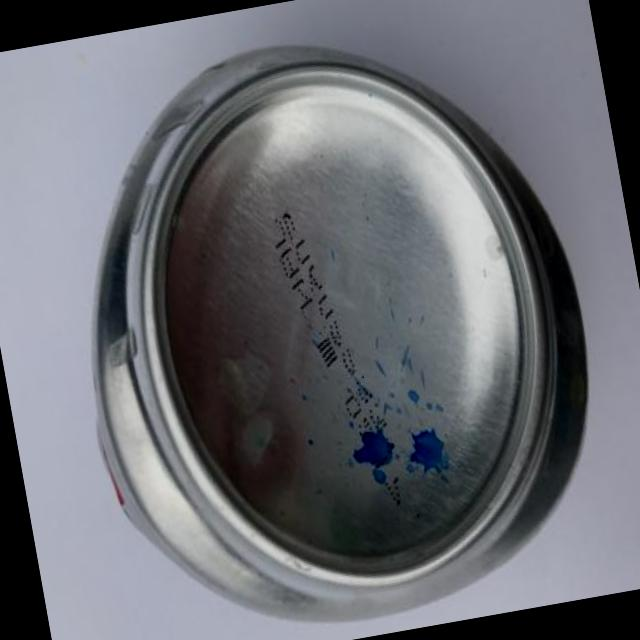kim_loai: (92, 40, 589, 621)
